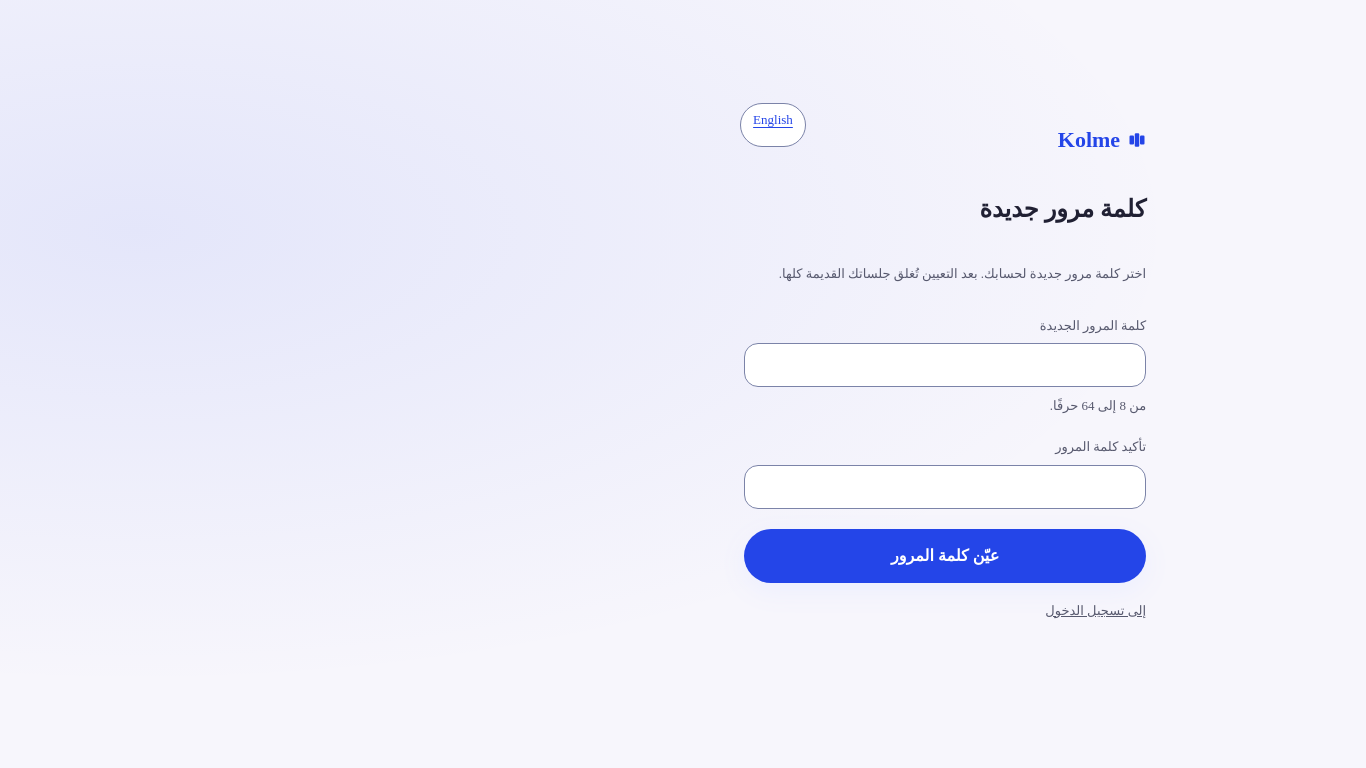
Test: ResetPasswordScreen › confirms with the token and points to the door
Type "longpassword1" into the password field labelled "كلمة المرور الجديدة" at (945, 365), box left=744, top=343, right=1146, bottom=387
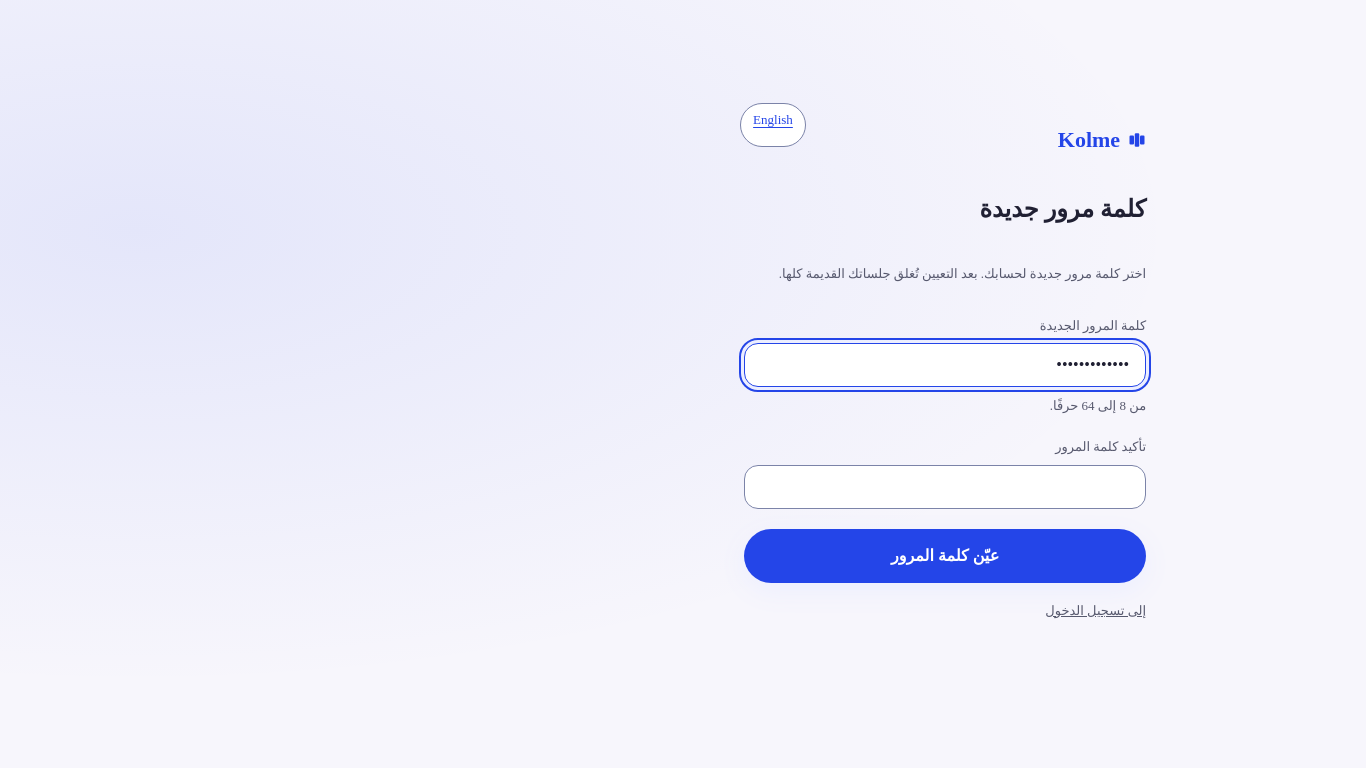
Type "longpassword1" into the password field labelled "تأكيد كلمة المرور" at (945, 487), box left=744, top=465, right=1146, bottom=509
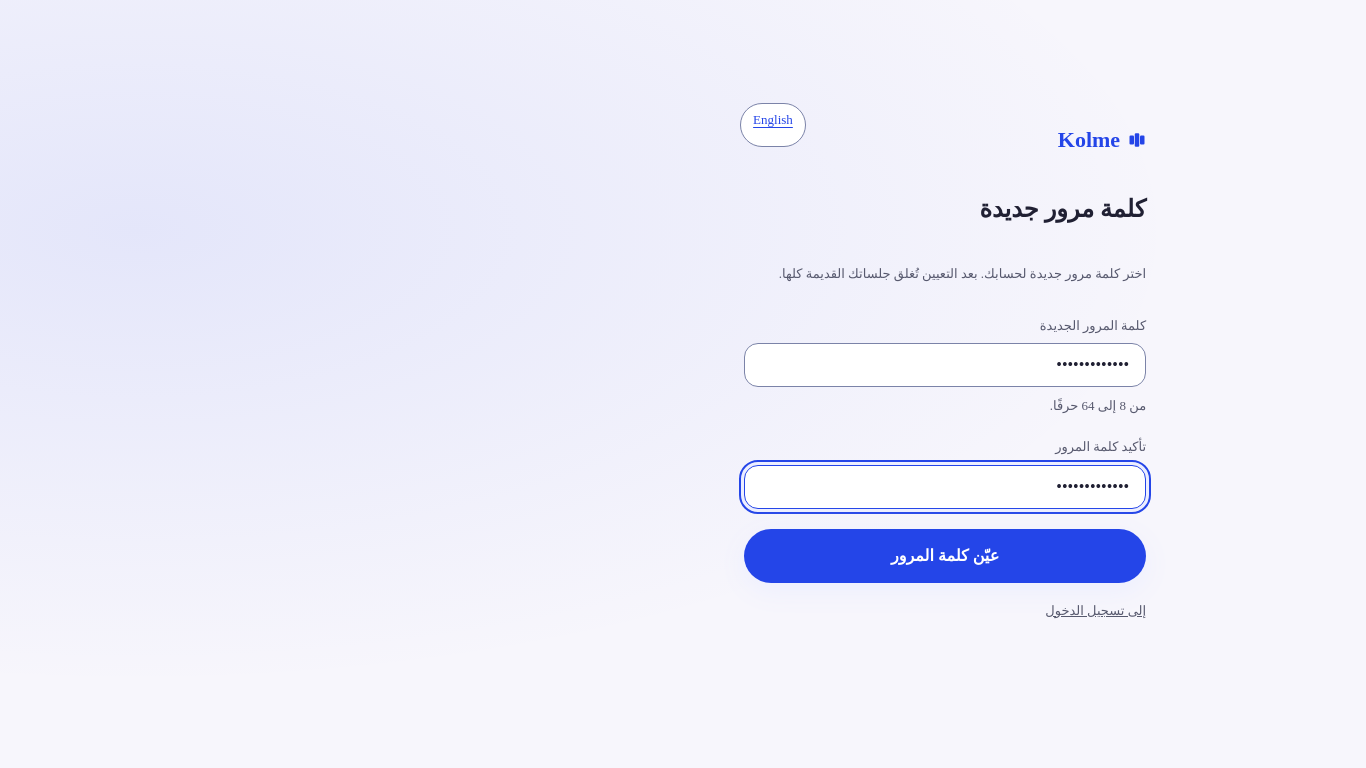
Click the button "عيّن كلمة المرور" at (945, 556), box left=744, top=529, right=1146, bottom=583
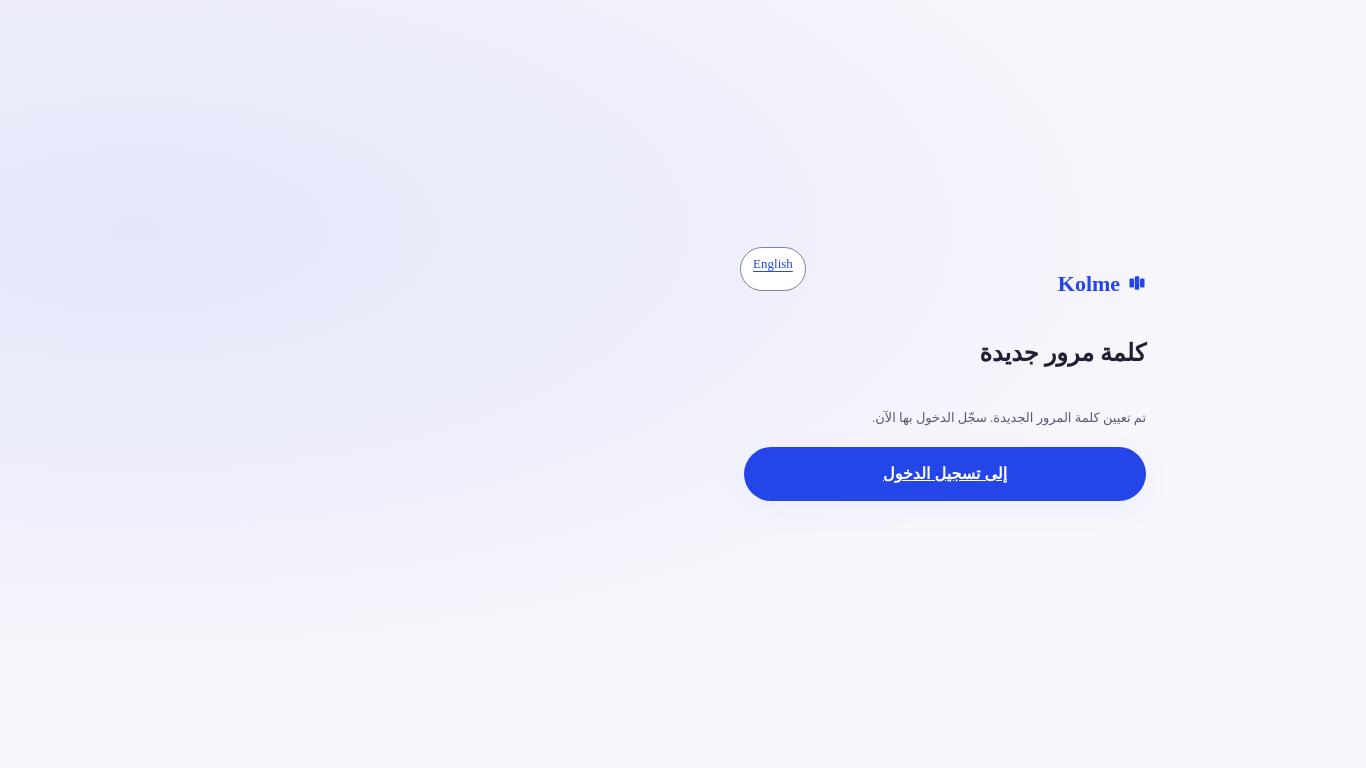
Now the message shows "تم تعيين كلمة المرور الجديدة", box left=872, top=410, right=1146, bottom=425
